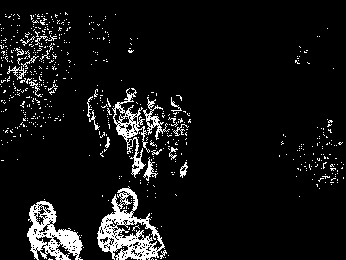person: (94, 187, 167, 260), (29, 200, 86, 260), (113, 86, 144, 174), (139, 89, 167, 180), (164, 94, 191, 179), (86, 84, 112, 159)
